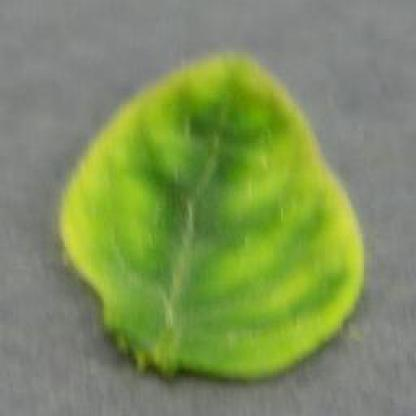bad leaf: (34, 62, 372, 372)
